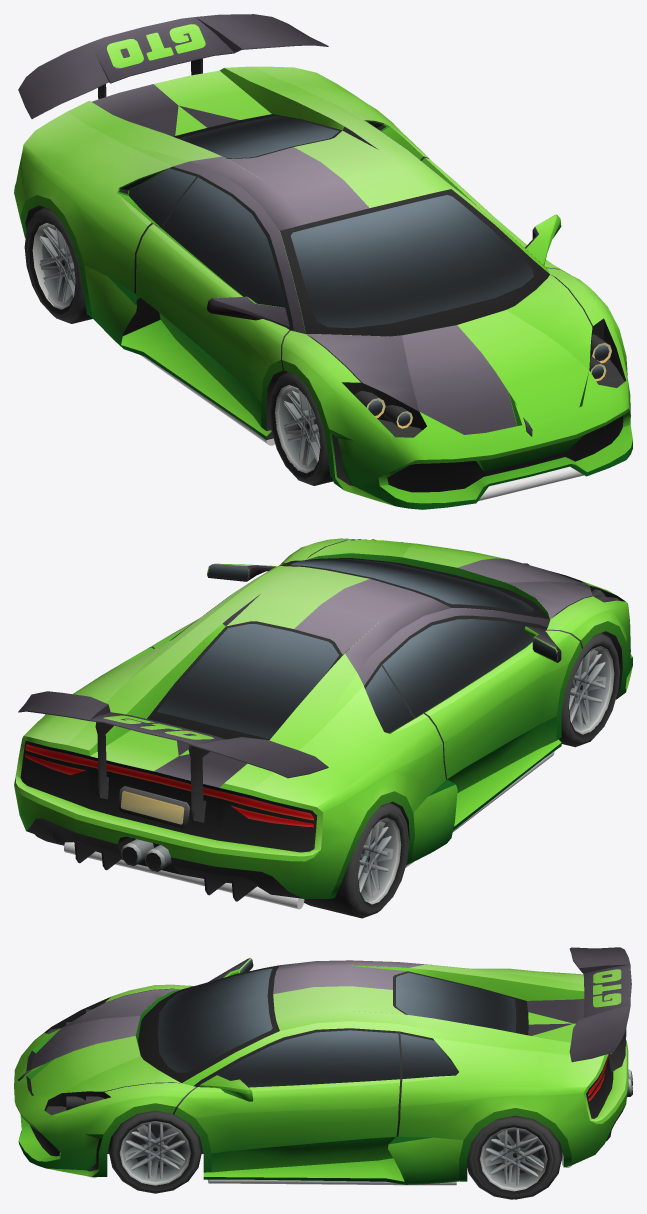
Rendered from Car_7.fbx.
3 renders of one model, top to bottom at view 1: azimuth 30°, elevation 25°; view 2: azimuth 150°, elevation 25°; view 3: azimuth 270°, elevation 25°, orthographic. The views are drawn at different scales.
Parts seen in each view (by area): view 1: Car_22A, CarbonPart.005, OldPart.006, Spoiler.006, Wheel_22A_R.R_001, Wheel_22A_F.R_001, Wheel_22A_R.R, Wheel_22A_F.R, Neon; view 2: Car_22A, CarbonPart.005, OldPart.006, Spoiler.006, Wheel_22A_R.R, Wheel_22A_F.R_001, Wheel_22A_R.R_001, Wheel_22A_F.R, Neon; view 3: Car_22A, OldPart.006, CarbonPart.005, Spoiler.006, Wheel_22A_F.L_001, Wheel_22A_R.L, Wheel_22A_R.L_001, Wheel_22A_F.L, Neon.
Boxes of the visible parts, x1,y1,x2,y2 form: Car_22A: (14, 66, 632, 509); CarbonPart.005: (91, 84, 547, 434); OldPart.006: (154, 70, 592, 425); Spoiler.006: (18, 14, 328, 118); Wheel_22A_R.R_001: (27, 215, 92, 323); Wheel_22A_F.R_001: (269, 371, 332, 485); Wheel_22A_R.R: (24, 207, 78, 316); Wheel_22A_F.R: (275, 372, 320, 473); Neon: (140, 355, 583, 506); Car_22A: (14, 538, 632, 901); CarbonPart.005: (154, 554, 592, 787); OldPart.006: (90, 539, 557, 771); Spoiler.006: (18, 691, 328, 822); Wheel_22A_R.R: (304, 809, 406, 918); Wheel_22A_F.R_001: (558, 634, 619, 747); Wheel_22A_R.R_001: (355, 802, 409, 911); Wheel_22A_F.R: (569, 632, 613, 734); Neon: (64, 751, 554, 909); Car_22A: (14, 959, 632, 1184); OldPart.006: (30, 958, 575, 1101); CarbonPart.005: (31, 958, 584, 1092); Spoiler.006: (569, 947, 631, 1071); Wheel_22A_F.L_001: (108, 1112, 202, 1193); Wheel_22A_R.L: (473, 1115, 562, 1199); Wheel_22A_R.L_001: (467, 1116, 553, 1199); Wheel_22A_F.L: (108, 1110, 190, 1185); Neon: (88, 1152, 571, 1185).
Size of the model in its own units: 2.9 by 1.56 by 5.61.
Materials: 3 (3 with a texture image).
